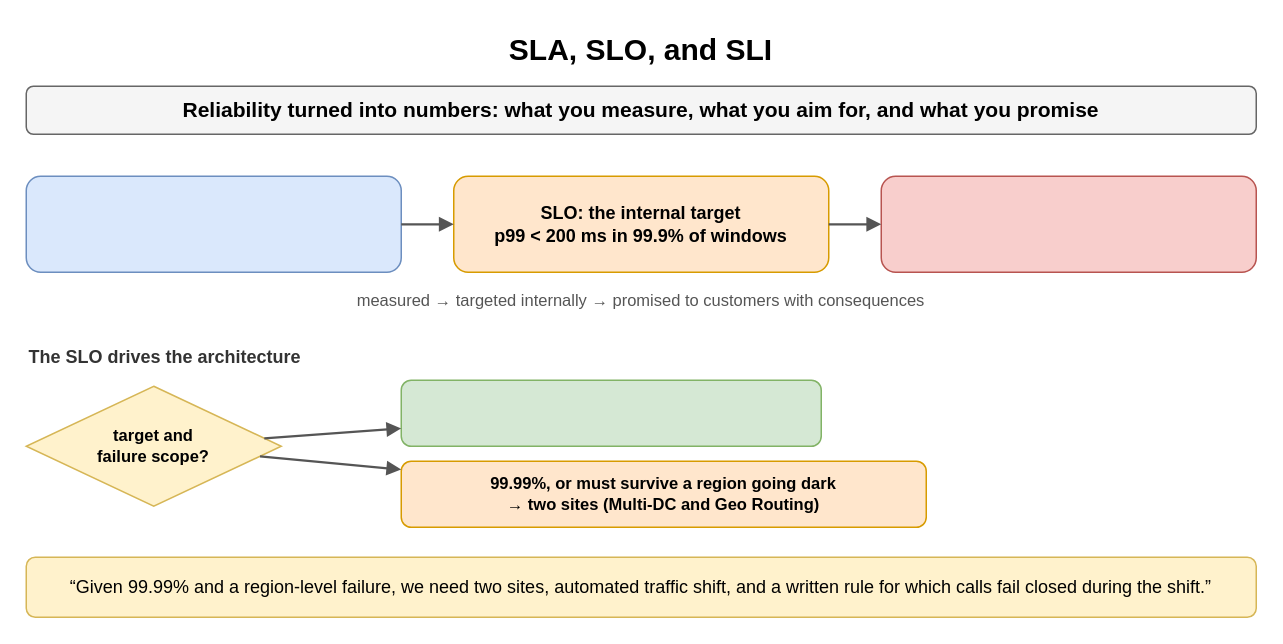
Image size: 1283x644. Some labels were removed from this diagram. Each missing label, with the centre of its shape:
"99.9%, users in one region → a warm spare in that region" goes at pixel 610 412.
"SLA: the contract < 99.95% in a month → 10% credit" goes at pixel 1068 223.
"SLI: the measurement p99 latency over 5 minutes" goes at pixel 213 223.
